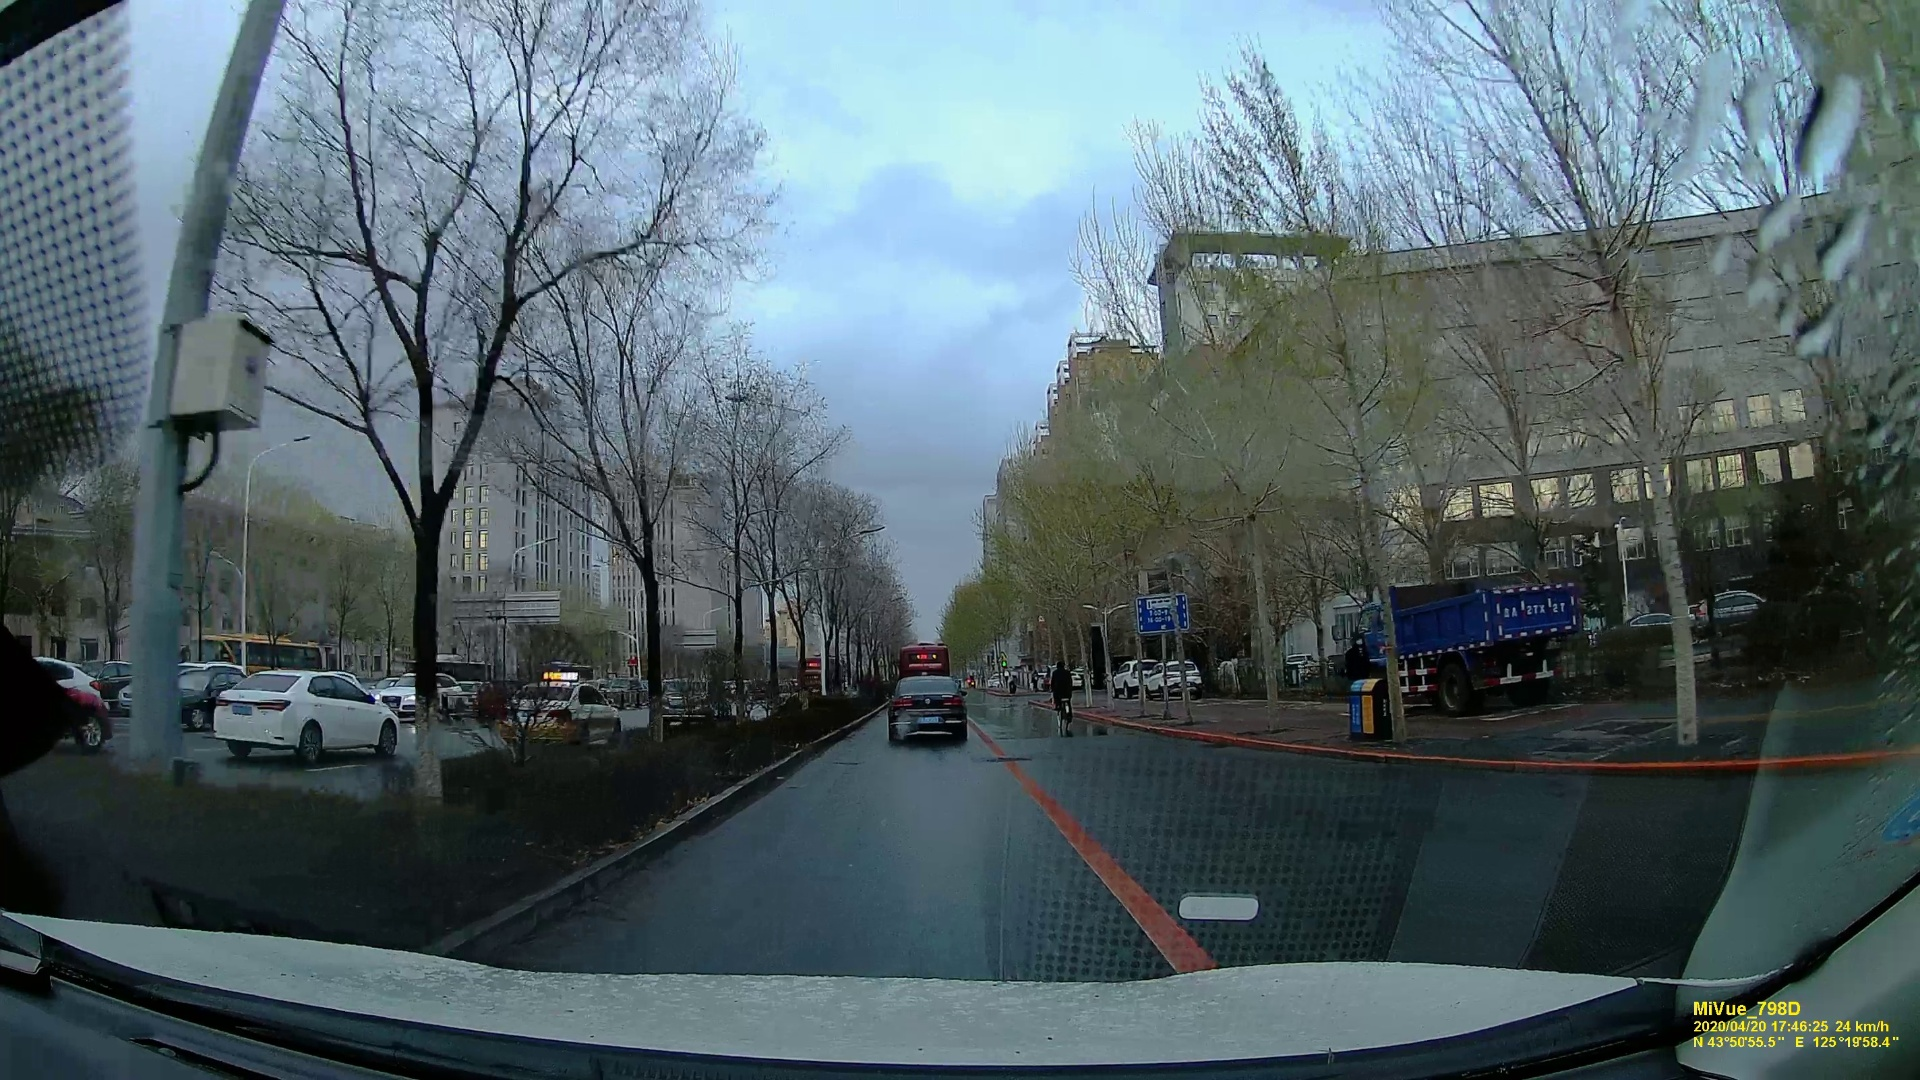bus: (899, 641, 950, 681)
person: (1344, 631, 1368, 701), (1050, 658, 1072, 728)
traffic_sign: (1135, 596, 1187, 630)
truck: (1362, 577, 1575, 707)
vehicle: (203, 667, 398, 760), (508, 677, 623, 746), (883, 674, 972, 744)
